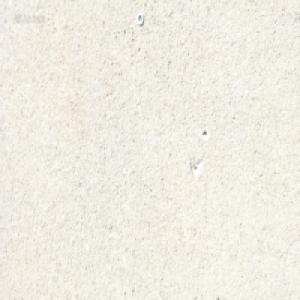Washer: (136, 12, 143, 26)
